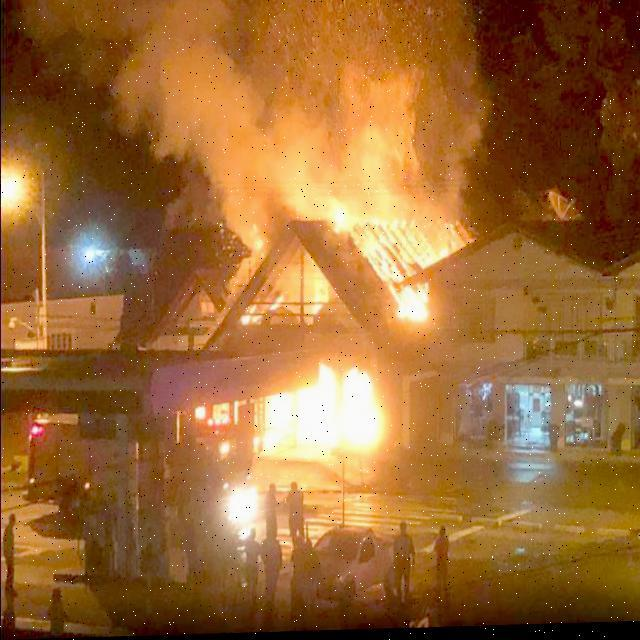Fire: (261, 362, 382, 454), (326, 200, 461, 277), (391, 278, 428, 326), (244, 298, 286, 328), (244, 222, 264, 250)
